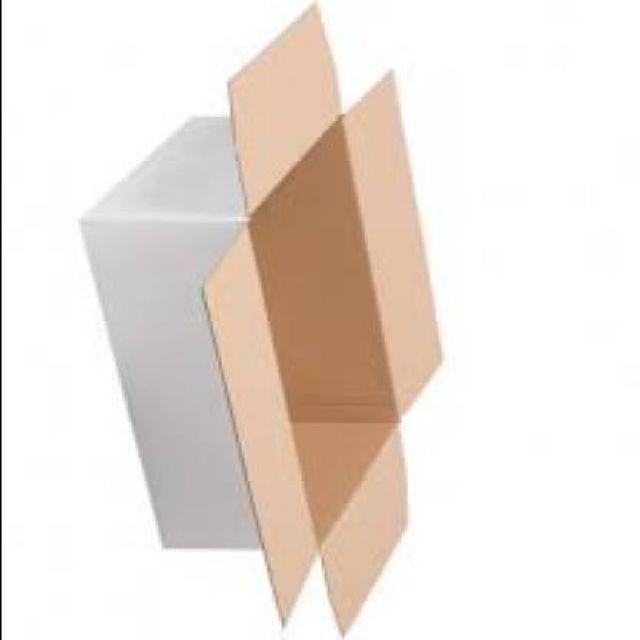box: (80, 3, 443, 626)
